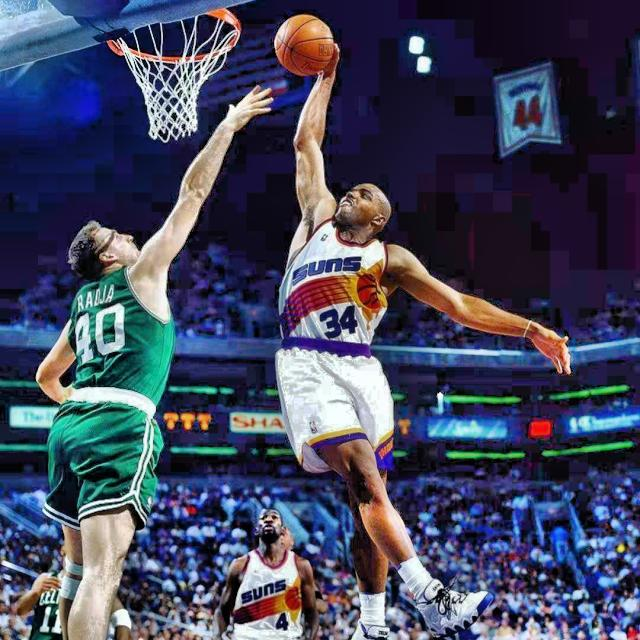board: (274, 14, 336, 78)
rim: (105, 5, 240, 143)
